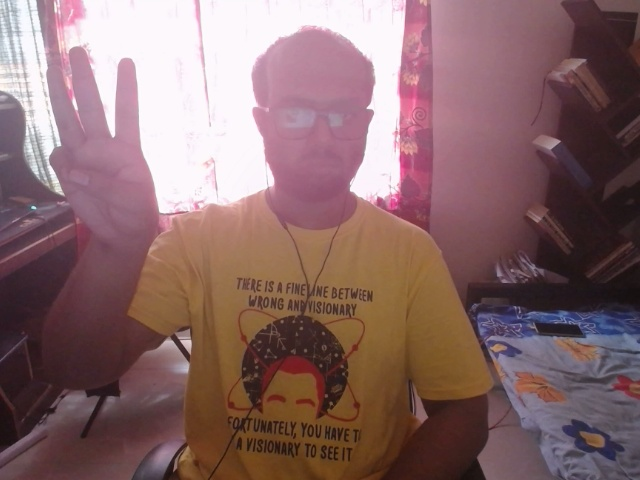three: (35, 33, 183, 192)
